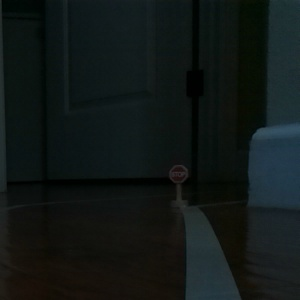stop sign: (167, 163, 189, 209)
